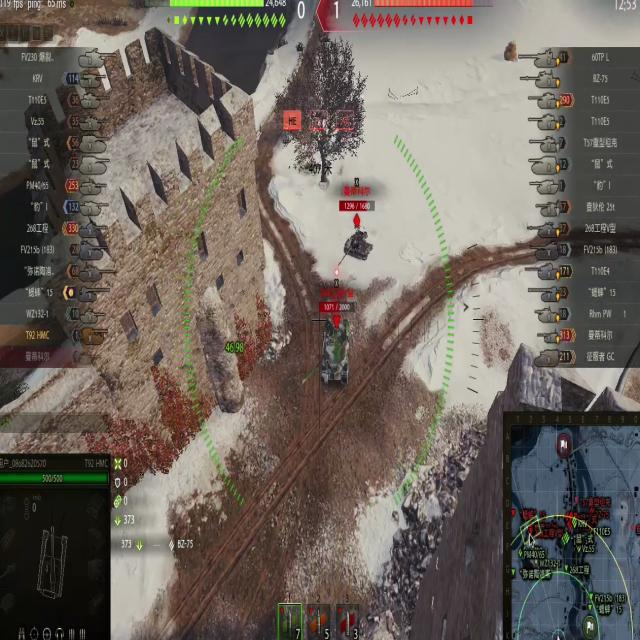tank: (312, 295, 354, 393)
